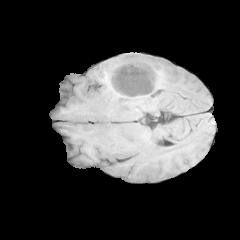glioma: (106, 55, 162, 99)
